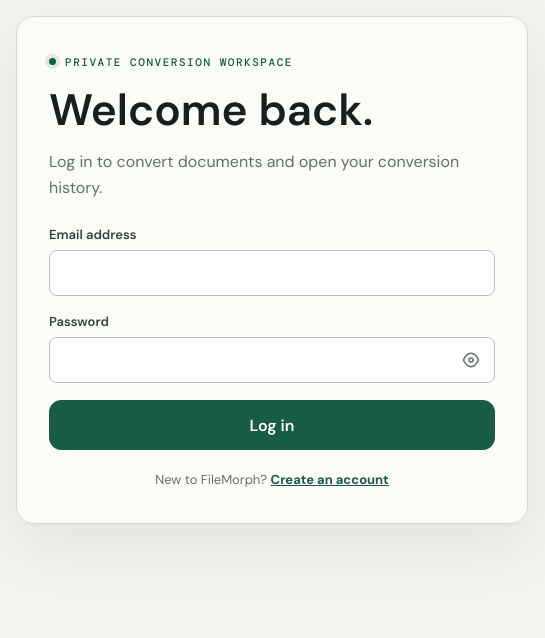
Test case: authentication › shows login errors and toggles password visibility
Step 1. Type "one@example.com" into the field labelled "Email address" → (272, 273), box top-left (49, 250), bottom-right (495, 296)
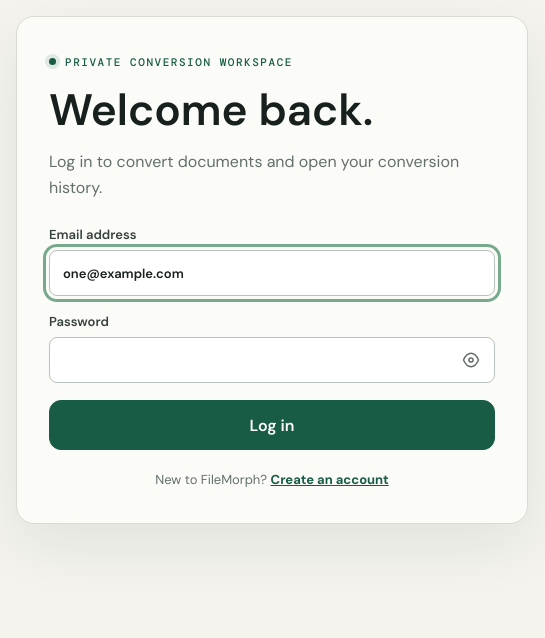
Step 2. Type "WrongPass123" into the password field labelled "Password" → (272, 360), box top-left (49, 337), bottom-right (495, 383)
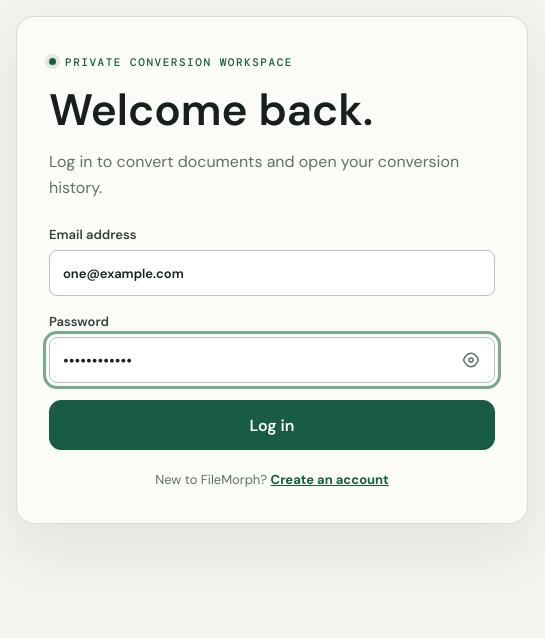
Step 3. Click the button named "Show password" → (471, 360), box top-left (449, 338), bottom-right (493, 382)
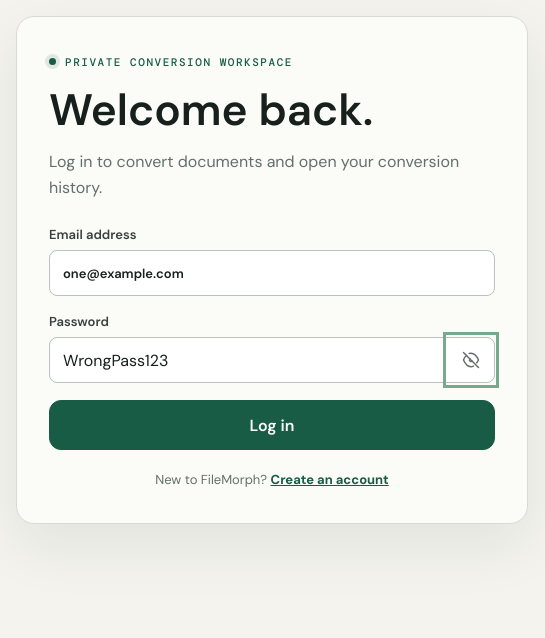
Now the field labelled "Password" shows its text, box top-left (49, 337), bottom-right (495, 383)
Step 4. Click the button "Log in" → (272, 425), box top-left (49, 400), bottom-right (495, 450)
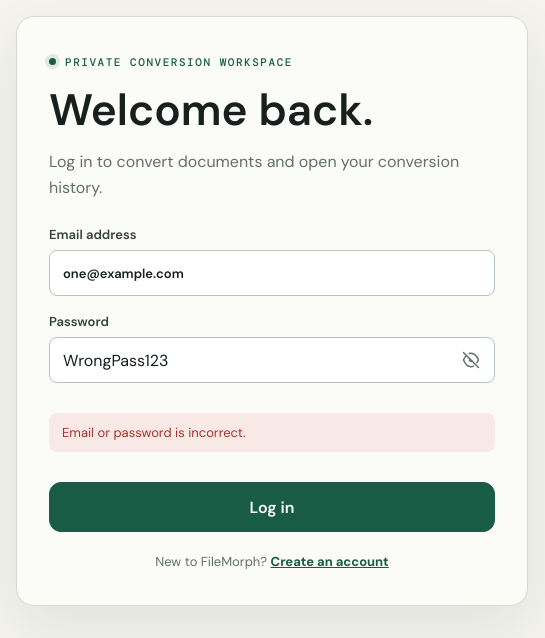
Now the message reads "Email or password is incorrect.", box top-left (62, 424), bottom-right (246, 441)
